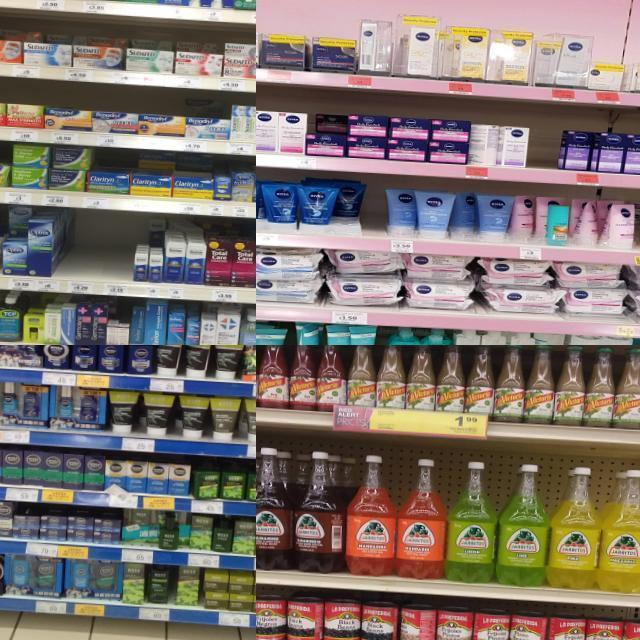Imprecise: (0, 196, 31, 279), (127, 146, 177, 196), (306, 108, 352, 160), (185, 97, 231, 142), (173, 39, 223, 77), (75, 34, 128, 68), (126, 38, 176, 72), (449, 186, 481, 239), (22, 34, 76, 64), (334, 182, 366, 230), (146, 217, 166, 283), (0, 30, 26, 63)
